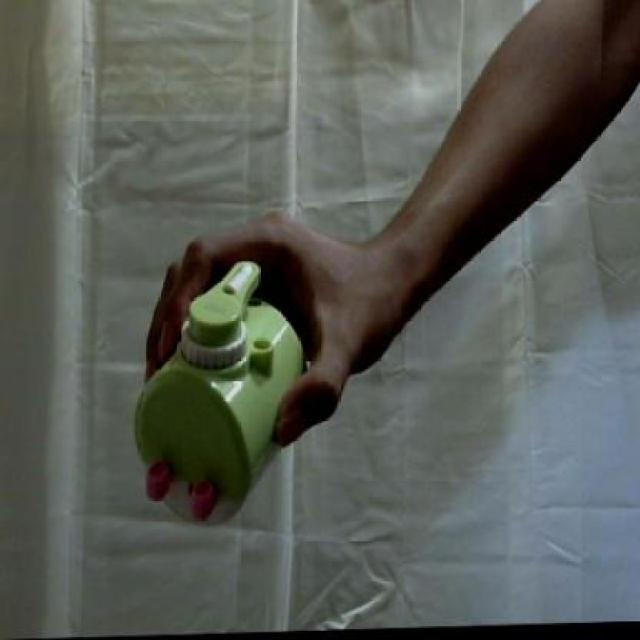Plastic: (125, 259, 323, 534)
